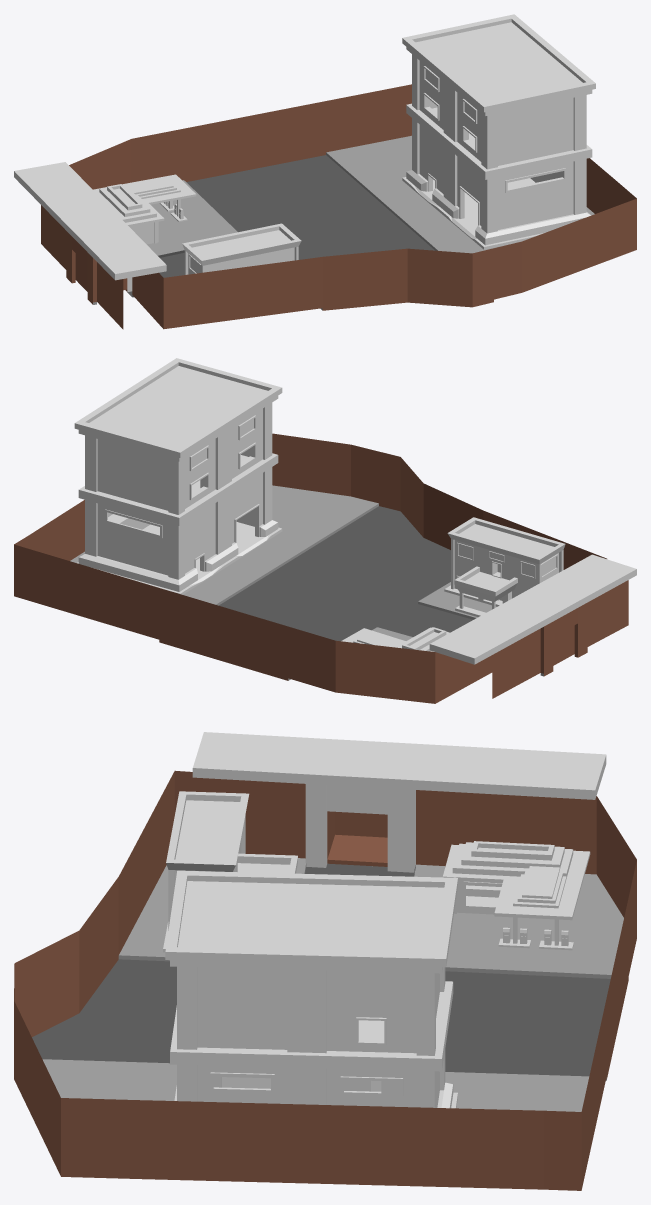
File: FPS_LEVEL_SECTION-3.fbx
3 renders of one model, top to bottom at view 1: azimuth 30°, elevation 25°; view 2: azimuth 150°, elevation 25°; view 3: azimuth 270°, elevation 25°, orthographic. The views are drawn at different scales.
Visible parts, largest first — view 1: Cube.010, Cube.007, Cube, Cube.009, Cube.008; view 2: Cube.010, Cube.007, Cube, Cube.009, Cube.008; view 3: Cube.010, Cube.007, Cube, Cube.008, Cube.009.
Boxes of the visible parts, x1=… form: Cube.010: x1=69, y1=84, x2=636, y2=328; Cube.007: x1=402, y1=14, x2=595, y2=249; Cube: x1=14, y1=162, x2=166, y2=329; Cube.009: x1=182, y1=223, x2=301, y2=274; Cube.008: x1=93, y1=174, x2=196, y2=244; Cube.010: x1=14, y1=433, x2=606, y2=703; Cube.007: x1=74, y1=358, x2=282, y2=594; Cube: x1=429, y1=554, x2=636, y2=703; Cube.009: x1=444, y1=517, x2=565, y2=617; Cube.008: x1=341, y1=627, x2=449, y2=651; Cube.010: x1=14, y1=771, x2=636, y2=1190; Cube.007: x1=165, y1=870, x2=457, y2=1108; Cube: x1=174, y1=732, x2=606, y2=874; Cube.008: x1=442, y1=841, x2=590, y2=950; Cube.009: x1=163, y1=791, x2=297, y2=952.
Bounding box in the file's own units: 15251 × 4298 × 10840.
